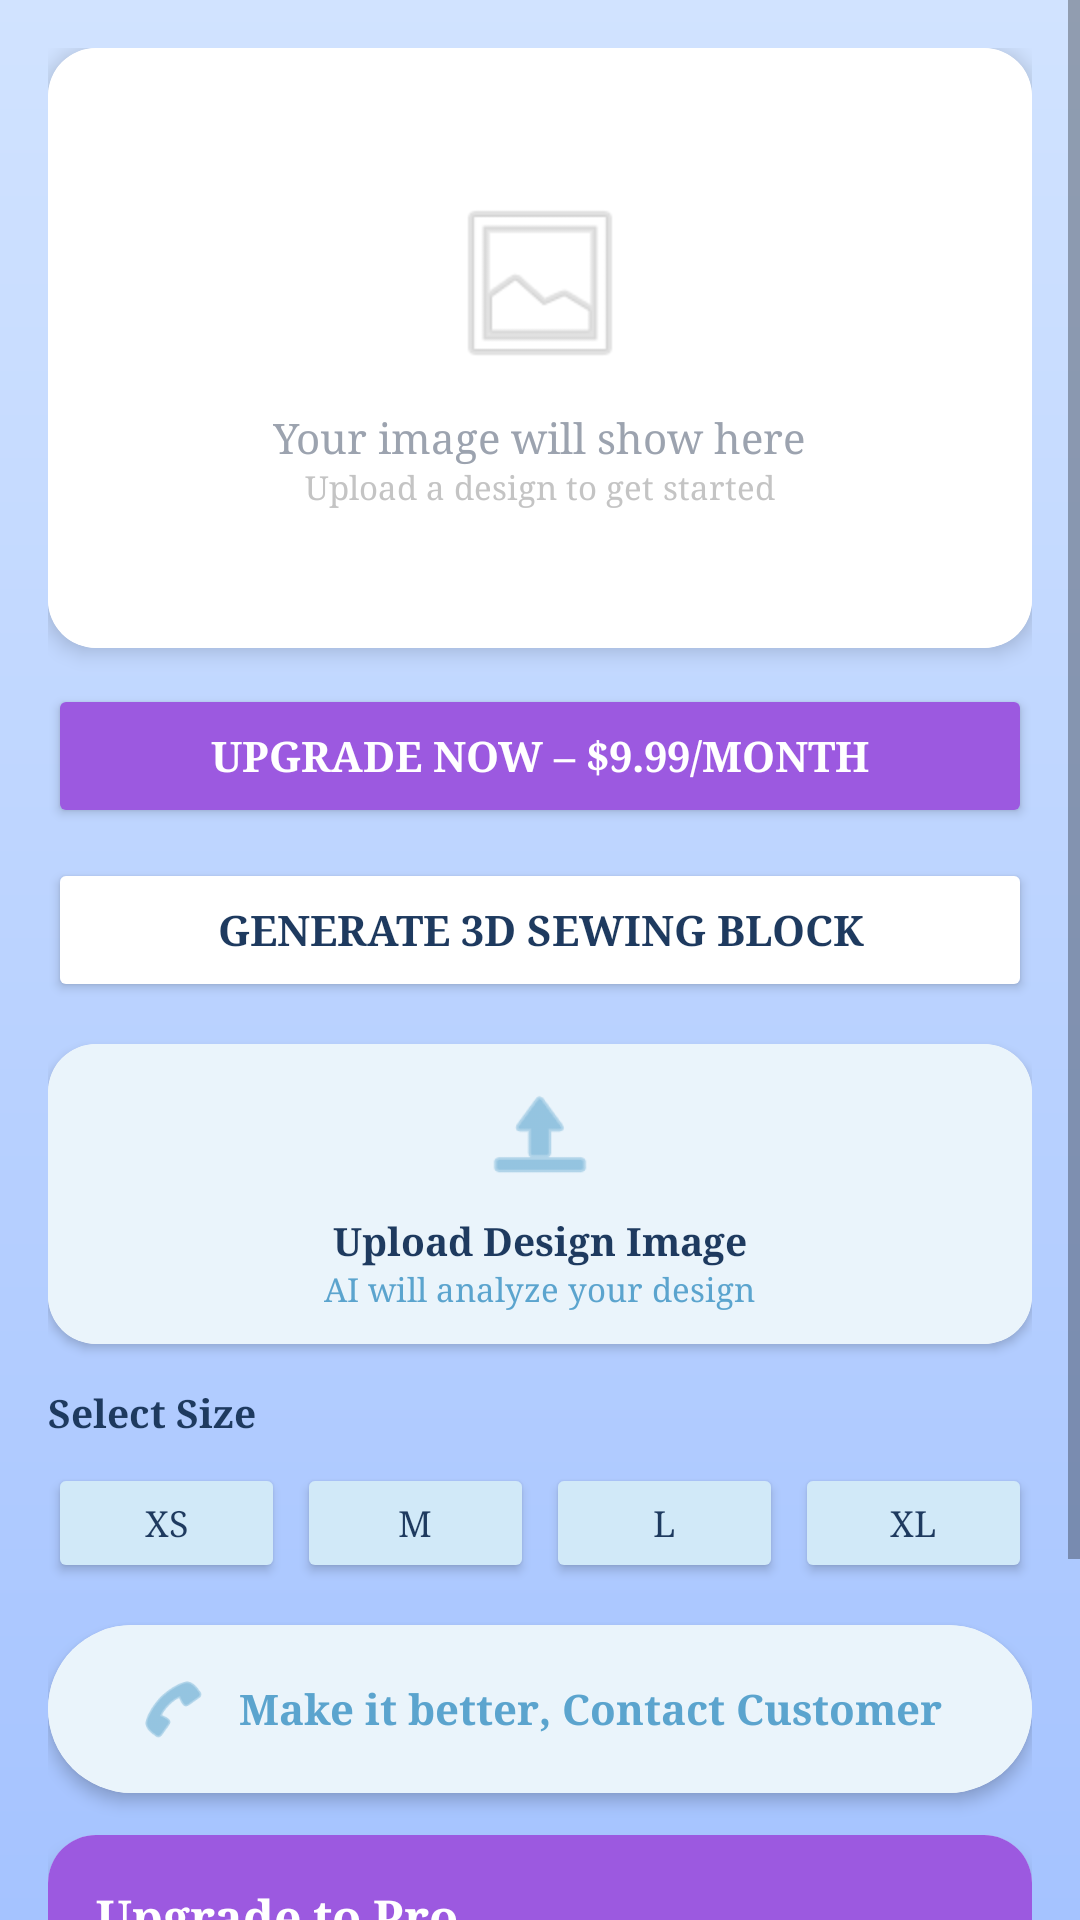

Where to tap for icons on this 1080 × 1920 app screen, as (x=x, y=y):
call: (x=173, y=1709)
